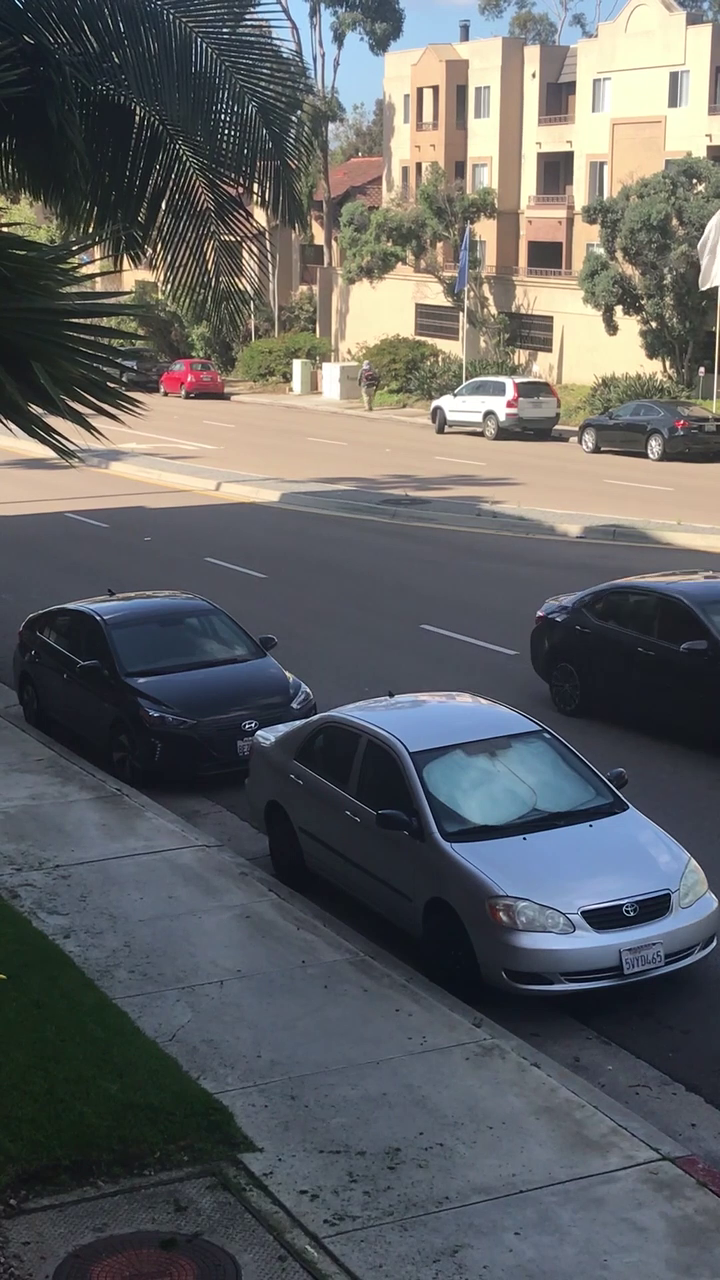car: (239, 670, 703, 1013), (26, 603, 316, 782)
